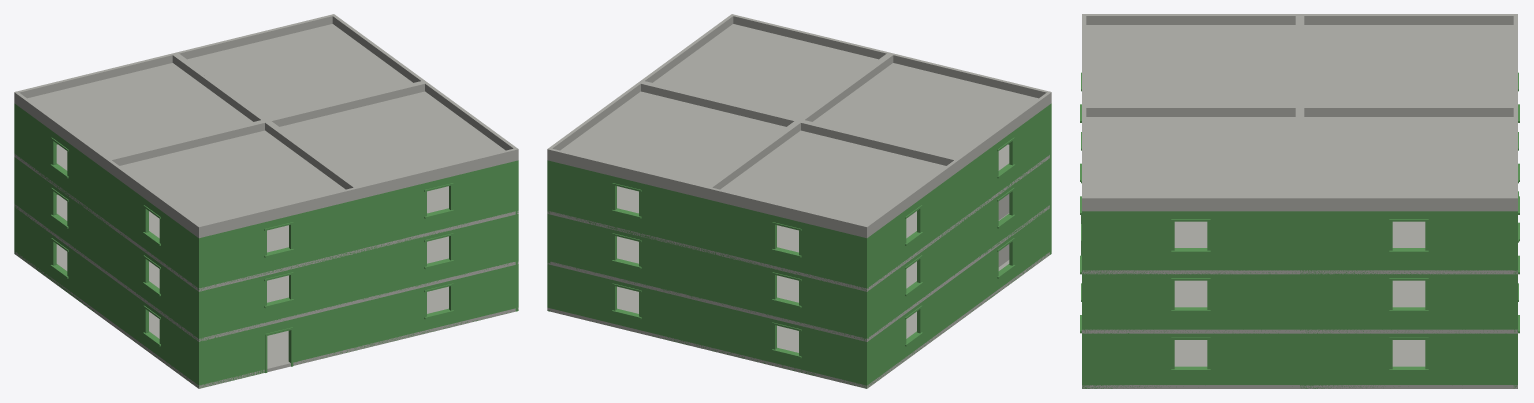
File: apartment_green.glb
3 views of the same model, side by side, from view 1: azimuth 30°, elevation 25°; view 2: azimuth 150°, elevation 25°; view 3: azimuth 270°, elevation 25° (orthographic). The views are drawn at different scales.
Visible parts, largest first — view 1: apartment_green; view 2: apartment_green; view 3: apartment_green.
Part boxes in pixels (box(x1,y1,x2,y2)): apartment_green: box(14, 14, 518, 388); apartment_green: box(547, 14, 1051, 388); apartment_green: box(1080, 14, 1519, 388).
Size of the model in its own units: 20.18 by 9.66 by 20.18.
